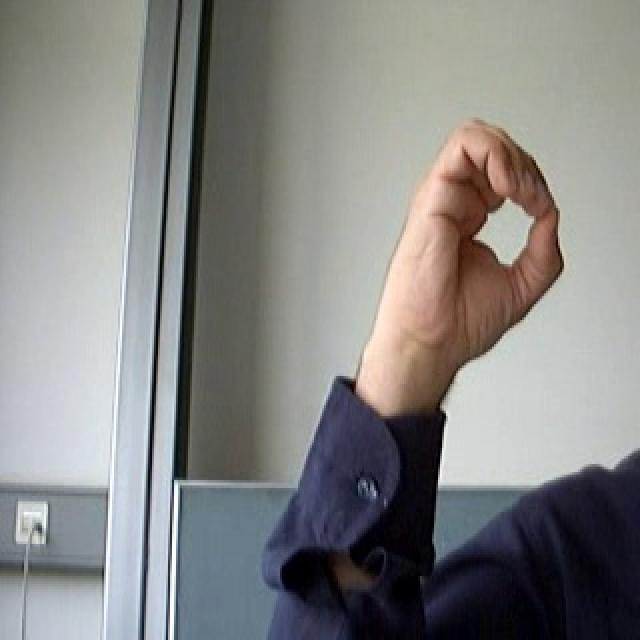O: (384, 105, 571, 374)
